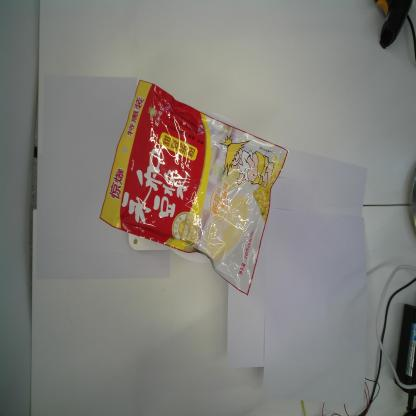Instant Drink: (99, 78, 288, 298)
